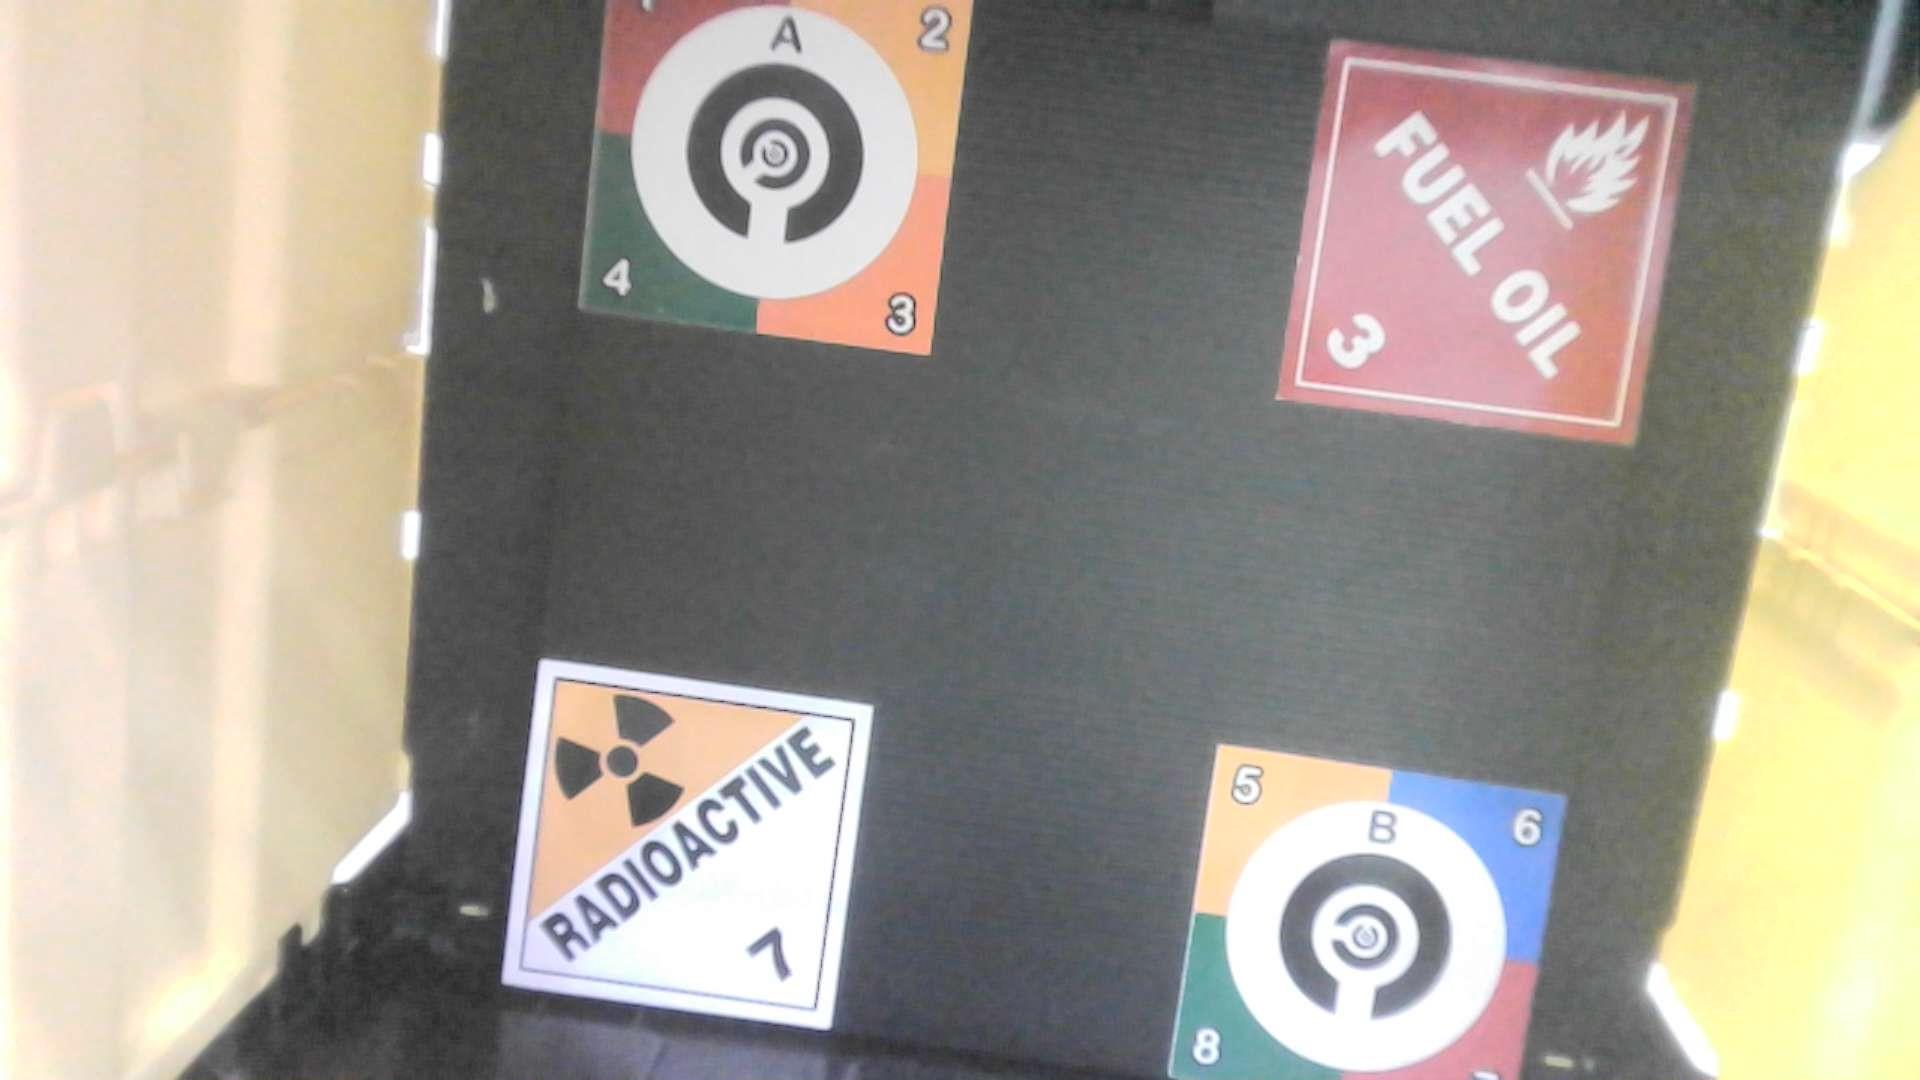flammable: (1265, 34, 1698, 454)
radioactive: (497, 654, 880, 1036)
